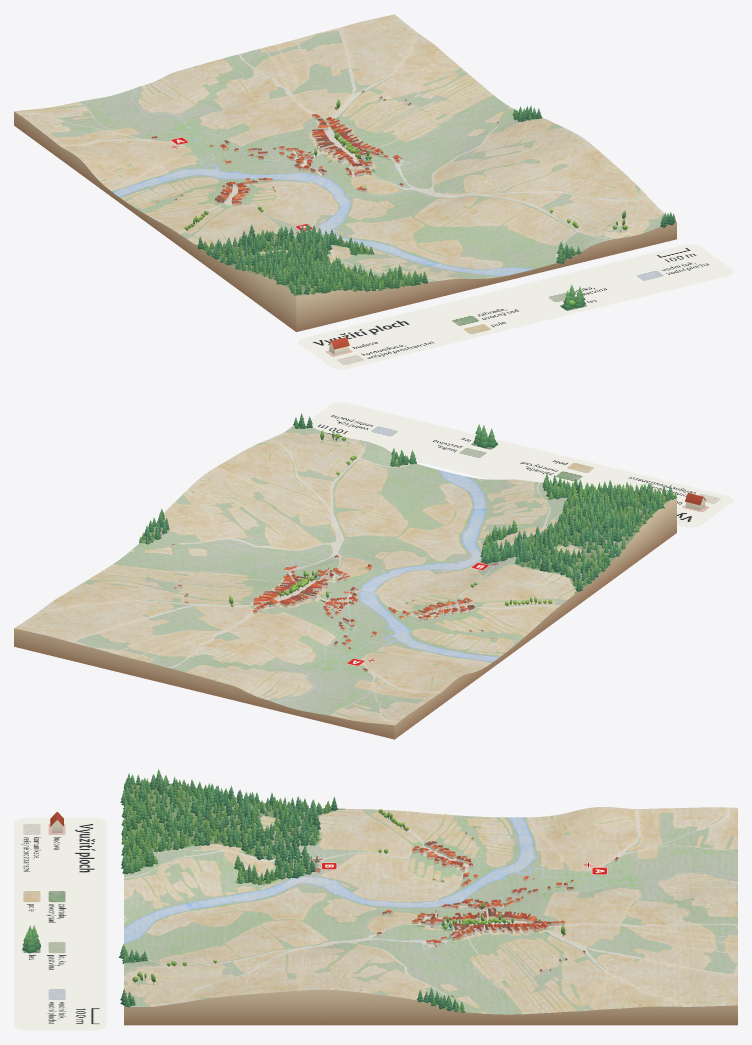
Rendered from Frymburk_sada4_otazka2_800m.glb.
The picture shows the model from 3 angles, top to bottom: view 1: azimuth 30°, elevation 25°; view 2: azimuth 150°, elevation 25°; view 3: azimuth 270°, elevation 25°; orthographic projection. The views are drawn at different scales.
Parts seen in each view (by area): view 1: DMR_CO, legenda_panel, stromy_CO, budovy_CO, legenda_objekty; view 2: DMR_CO, legenda_panel, stromy_CO, budovy_CO, legenda_objekty; view 3: DMR_CO, legenda_panel, stromy_CO, budovy_CO, legenda_objekty.
Boxes of the visible parts, left/top/right/bottom form: DMR_CO: left=14, top=14, right=676, bottom=331; legenda_panel: left=299, top=244, right=732, bottom=369; stromy_CO: left=184, top=99, right=675, bottom=295; budovy_CO: left=151, top=90, right=621, bottom=231; legenda_objekty: left=328, top=284, right=585, bottom=354; DMR_CO: left=14, top=425, right=676, bottom=739; legenda_panel: left=305, top=402, right=732, bottom=527; stromy_CO: left=139, top=413, right=676, bottom=606; budovy_CO: left=172, top=544, right=494, bottom=672; legenda_objekty: left=474, top=424, right=706, bottom=510; DMR_CO: left=124, top=782, right=737, bottom=1025; legenda_panel: left=14, top=817, right=106, bottom=1030; stromy_CO: left=119, top=769, right=565, bottom=1012; budovy_CO: left=315, top=826, right=618, bottom=997; legenda_objekty: left=22, top=811, right=63, bottom=953.
Bounding box in the file's own units: 1490 × 180 × 2140.
10 materials, 4 textured.
